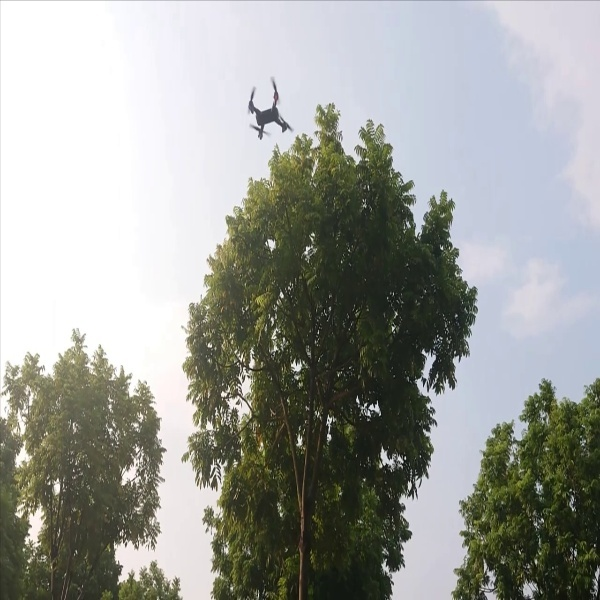drone: (239, 76, 295, 145)
